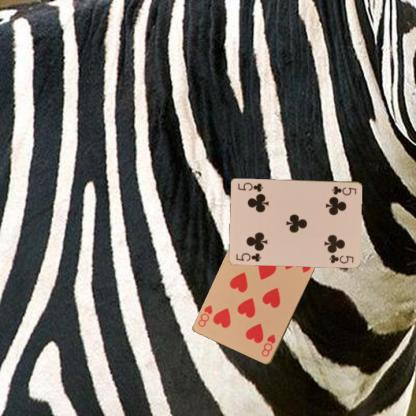5c: (329, 183, 358, 197), (233, 250, 262, 262)
8h: (259, 332, 277, 358)
